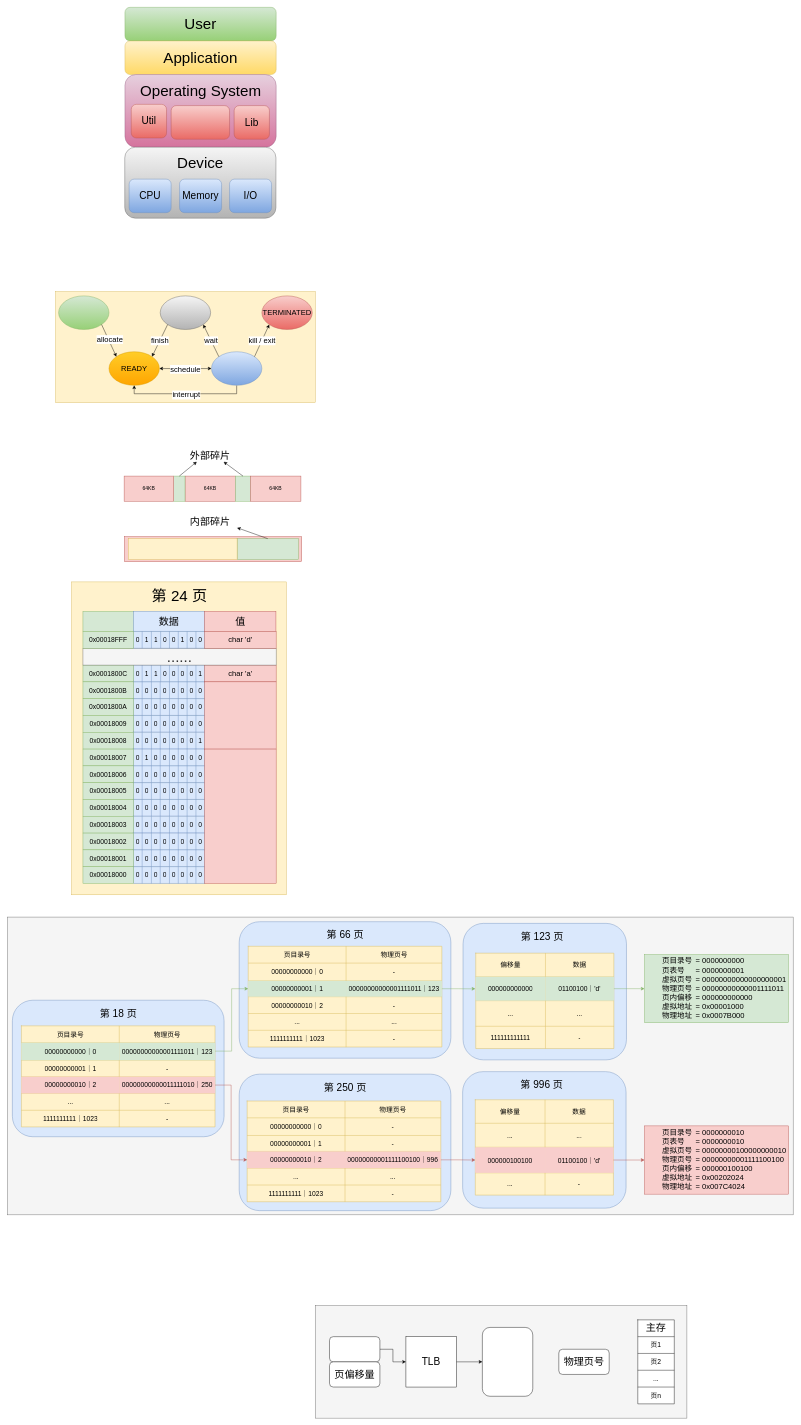
Image size: 801x1425. Some labels were removed from this diagram. The centre of each missing label's shape, as x and y in pixels:
"1KB" goes at point 179,488.
"2KB" goes at point 243,488.
"58KB" goes at point 267,549.
"70KB" goes at point 182,549.
"double 2.0" goes at point 240,816.
"int 1" goes at point 240,715.
"Kernel" goes at point 200,122.
"NEW" goes at point 83,312.
"RUNNING" goes at point 236,368.
"WAITING" goes at point 185,312.
"地址" goes at point 108,621.
"虚拟页号" goes at point 354,1349.
"页表" goes at point 507,1361.
